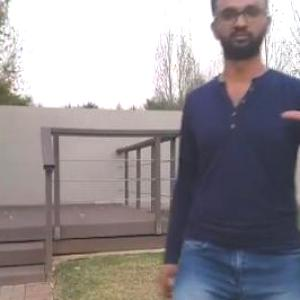land_hand: (277, 51, 300, 144)
